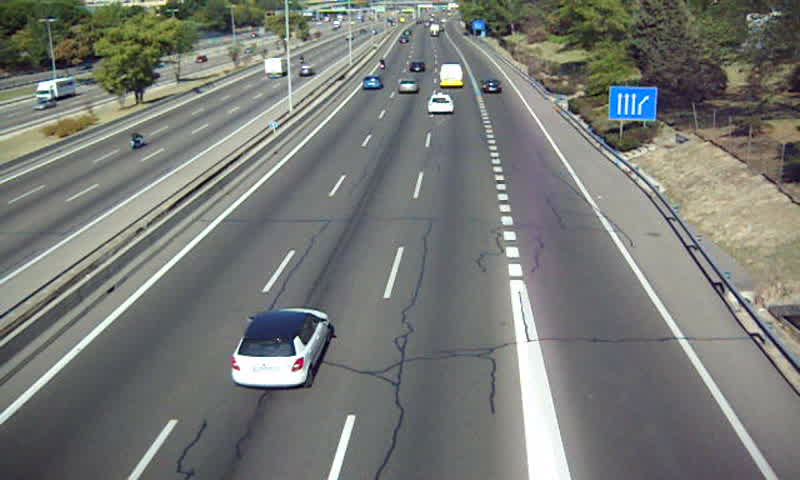car: (231, 307, 330, 386), (426, 94, 455, 114), (396, 79, 418, 95), (480, 79, 502, 94), (362, 76, 380, 93)
van: (438, 65, 464, 89)
